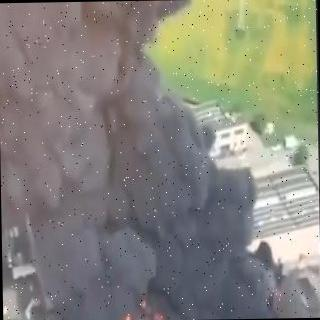smoke: (0, 0, 266, 311)
